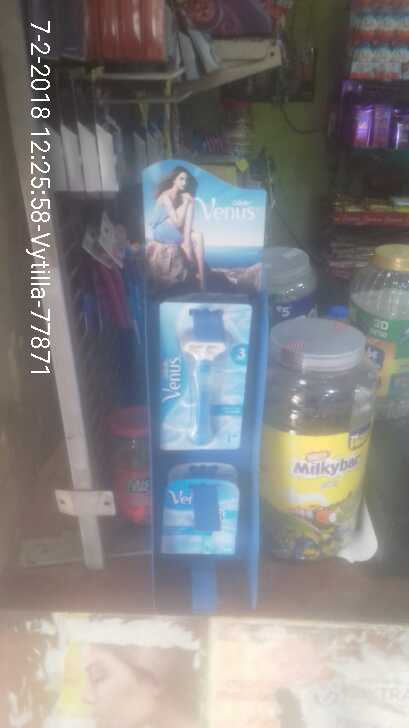venus: (162, 300, 242, 451), (157, 482, 227, 551)
